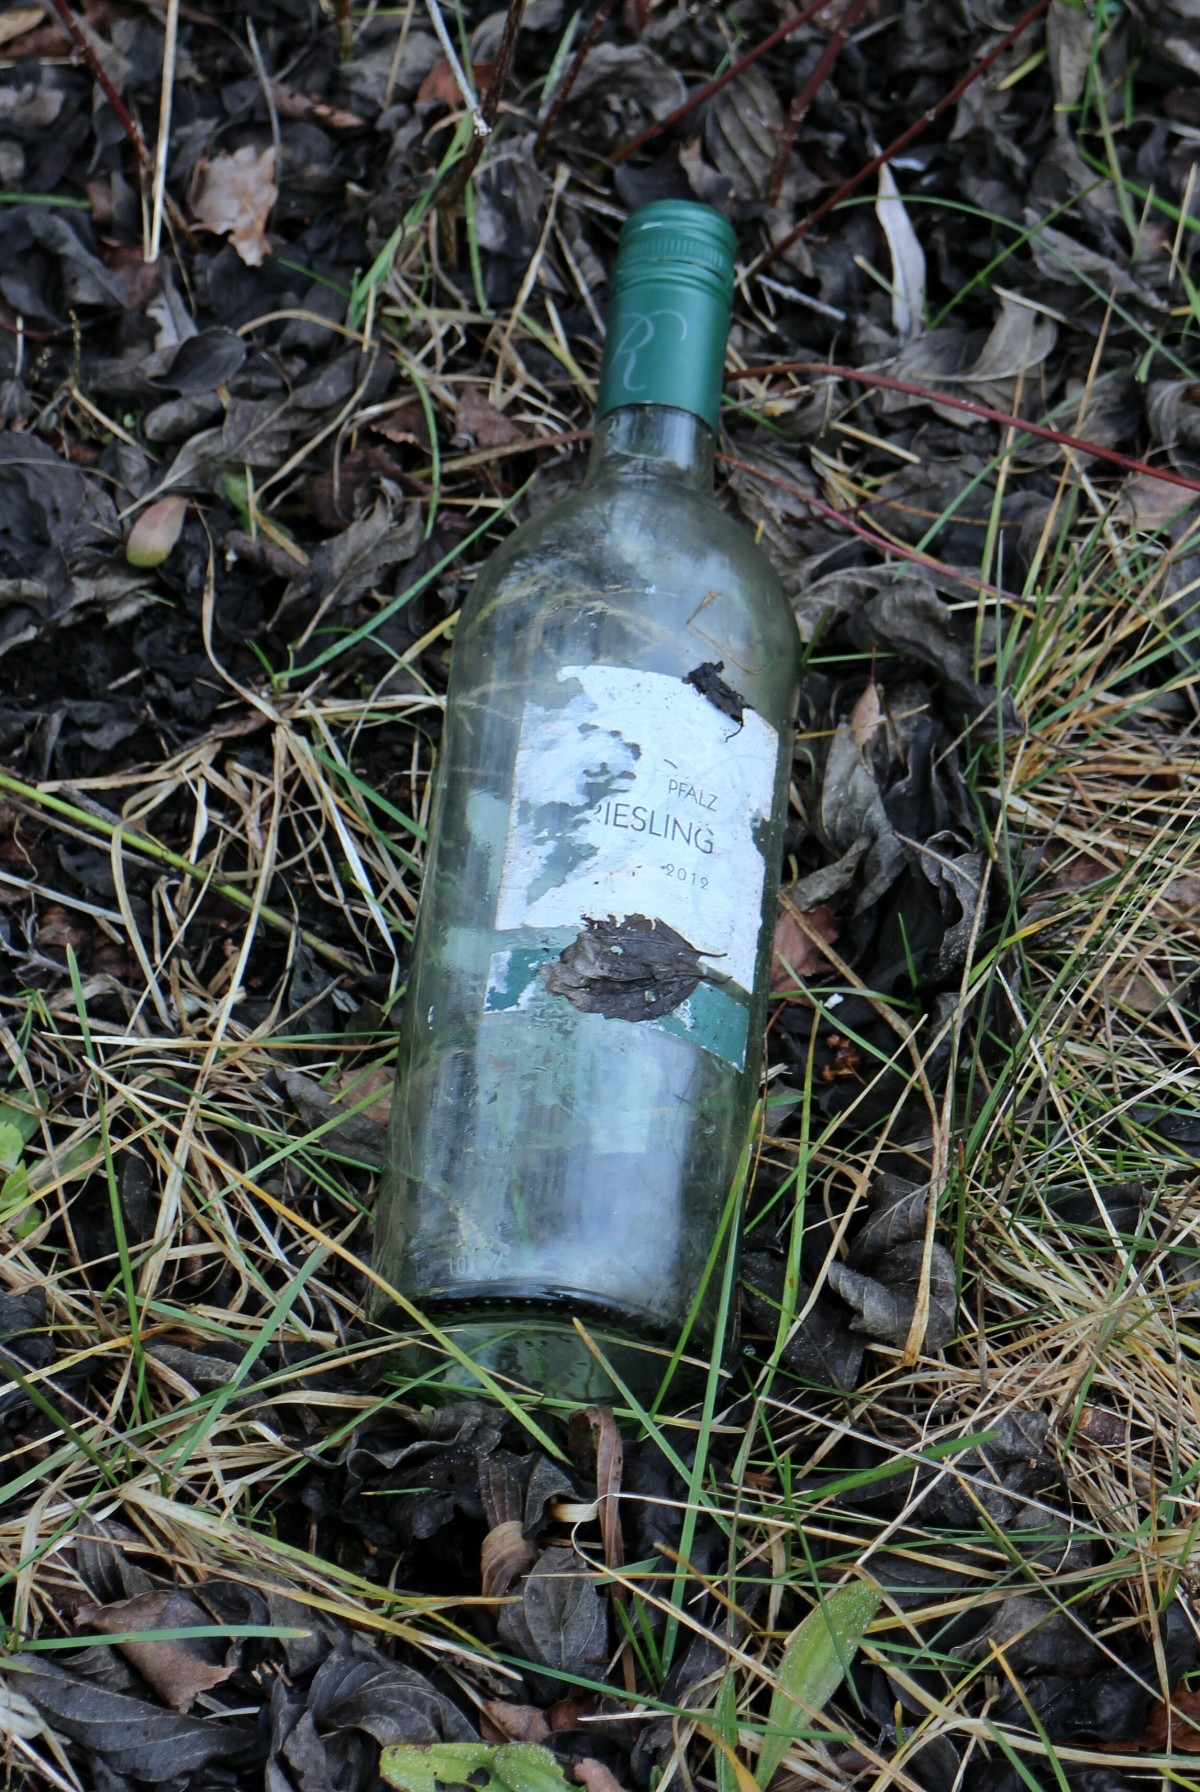bottle: (342, 174, 798, 1446)
